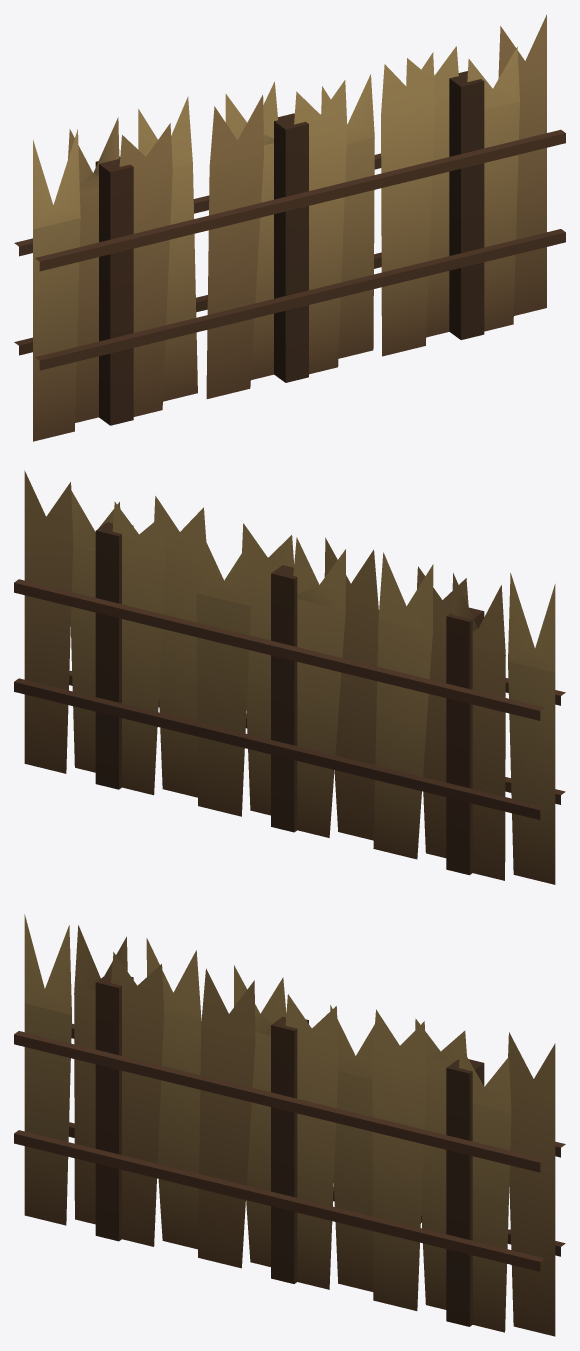
File: brise_vent.glb
3 renders of one model, top to bottom at view 1: azimuth 30°, elevation 25°; view 2: azimuth 150°, elevation 25°; view 3: azimuth 330°, elevation 25°, orthographic.
Visible parts, largest first — view 1: brise_vent; view 2: brise_vent; view 3: brise_vent.
Part boxes in pixels (x1,y1,x2,y2): brise_vent: (14,14,565,441); brise_vent: (14,470,565,884); brise_vent: (14,914,565,1336).
Bounding box in the file's own units: 1 × 0.5484 × 0.084.
